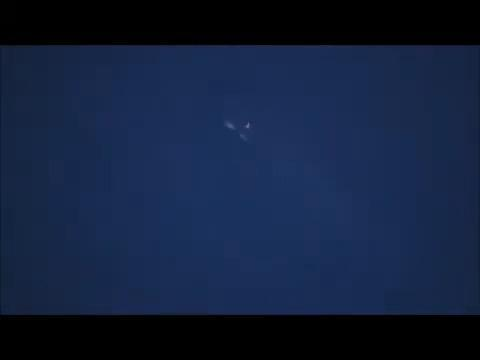Plane: (207, 114, 272, 149)
